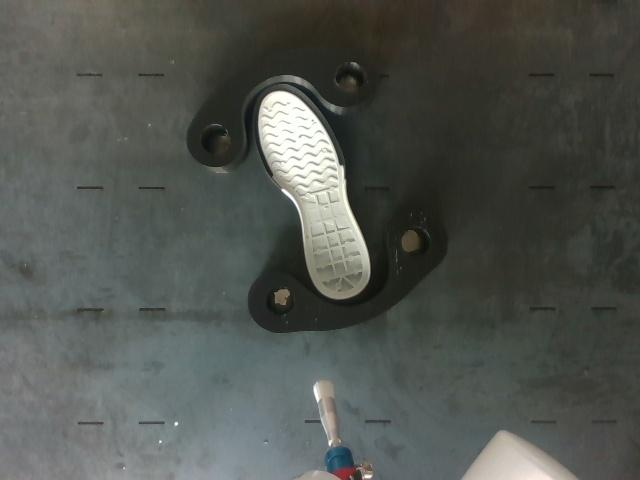shoes: (256, 87, 369, 298)
